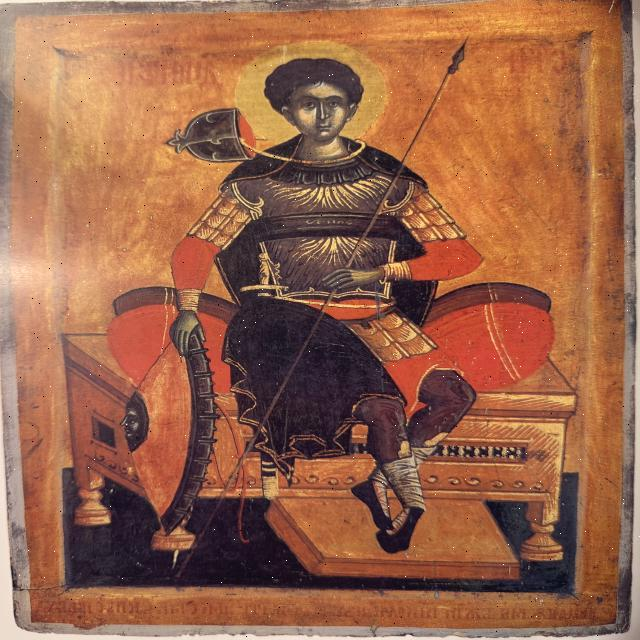aura: (232, 38, 398, 151)
shield: (107, 317, 221, 543)
spear: (394, 29, 484, 164)
st_george: (132, 26, 517, 581)
